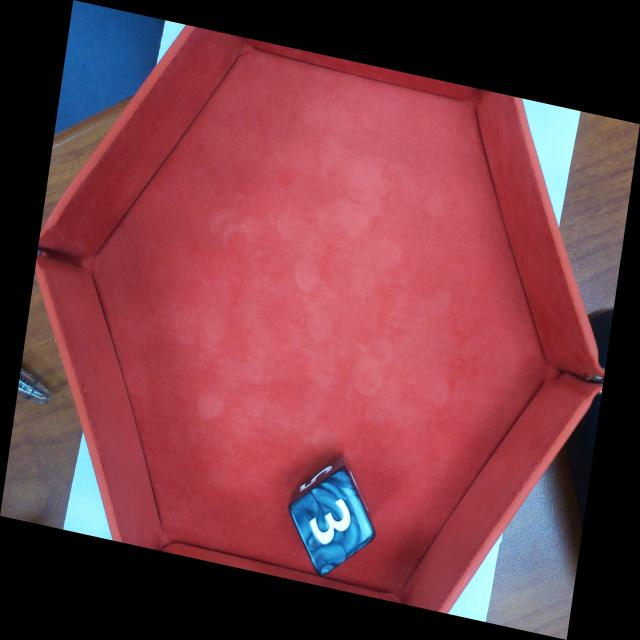dice: (289, 466, 376, 577)
